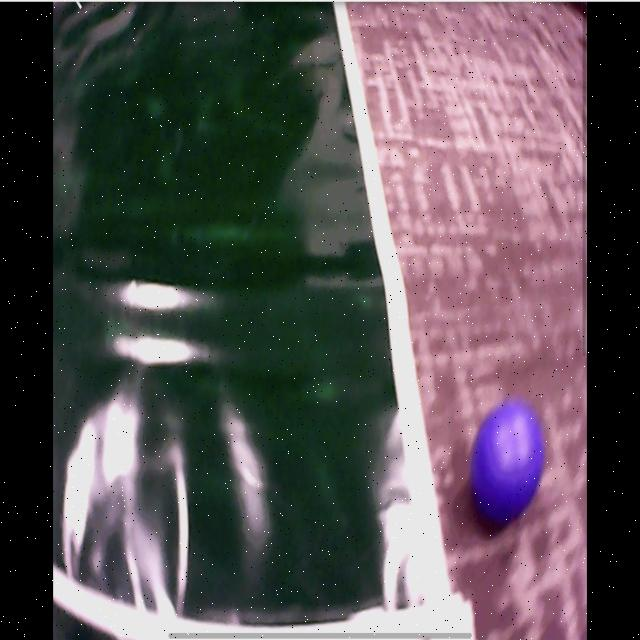ball: (471, 405, 544, 519)
